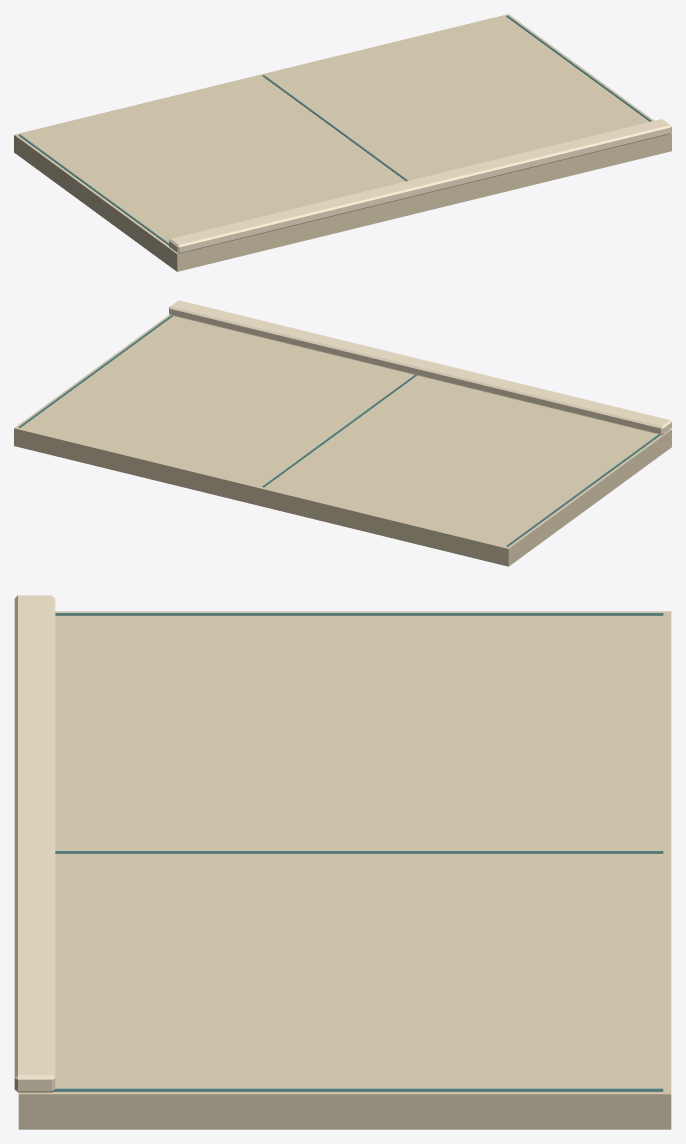
Rendered from hsc3_walk_tile_7m.glb.
3 views of the same model, one above another, from view 1: azimuth 30°, elevation 25°; view 2: azimuth 150°, elevation 25°; view 3: azimuth 270°, elevation 25° (orthographic). The views are drawn at different scales.
Parts seen in each view (by area): view 1: hsc3_walk_tile_7m__hsc3-cream-enamel, hsc3_walk_tile_7m__hsc3-pale-trim, hsc3_walk_tile_7m__hsc3-deep-teal; view 2: hsc3_walk_tile_7m__hsc3-cream-enamel, hsc3_walk_tile_7m__hsc3-pale-trim, hsc3_walk_tile_7m__hsc3-deep-teal; view 3: hsc3_walk_tile_7m__hsc3-cream-enamel, hsc3_walk_tile_7m__hsc3-pale-trim, hsc3_walk_tile_7m__hsc3-deep-teal.
Boxes of the visible parts, x1,y1,x2,y2 form: hsc3_walk_tile_7m__hsc3-cream-enamel: (14, 14, 671, 271); hsc3_walk_tile_7m__hsc3-pale-trim: (169, 119, 671, 253); hsc3_walk_tile_7m__hsc3-deep-teal: (18, 15, 651, 245); hsc3_walk_tile_7m__hsc3-cream-enamel: (14, 314, 671, 566); hsc3_walk_tile_7m__hsc3-pale-trim: (169, 300, 671, 434); hsc3_walk_tile_7m__hsc3-deep-teal: (19, 315, 660, 546); hsc3_walk_tile_7m__hsc3-cream-enamel: (18, 611, 671, 1129); hsc3_walk_tile_7m__hsc3-pale-trim: (14, 595, 55, 1092); hsc3_walk_tile_7m__hsc3-deep-teal: (53, 613, 663, 1091).
Size of the model in its own units: 7 by 0.36 by 4.03.
